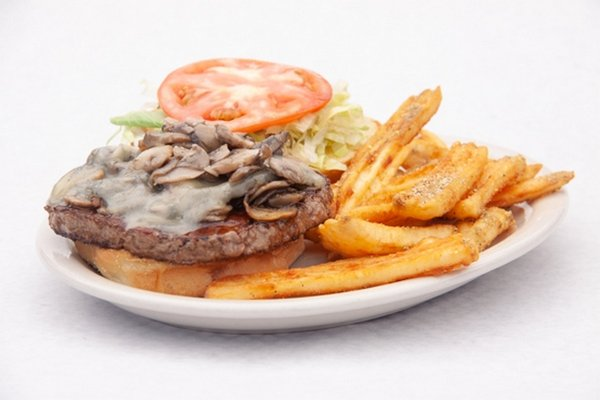soup: (42, 56, 369, 296)
